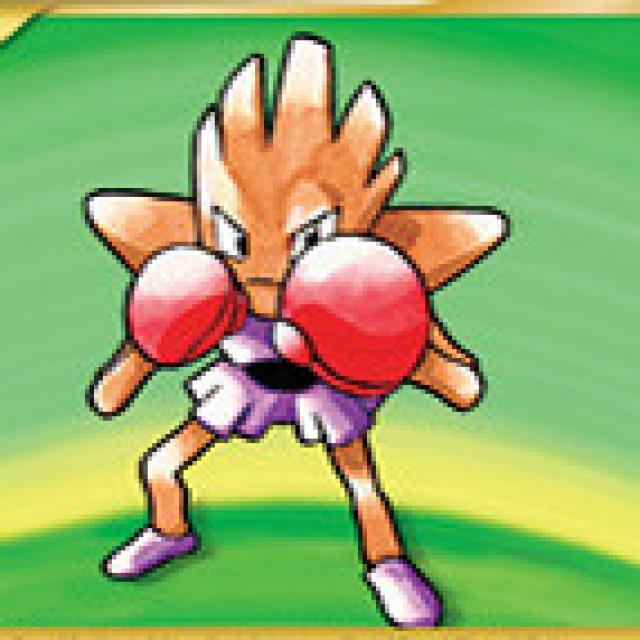Hitmonchan: (112, 61, 464, 580)
